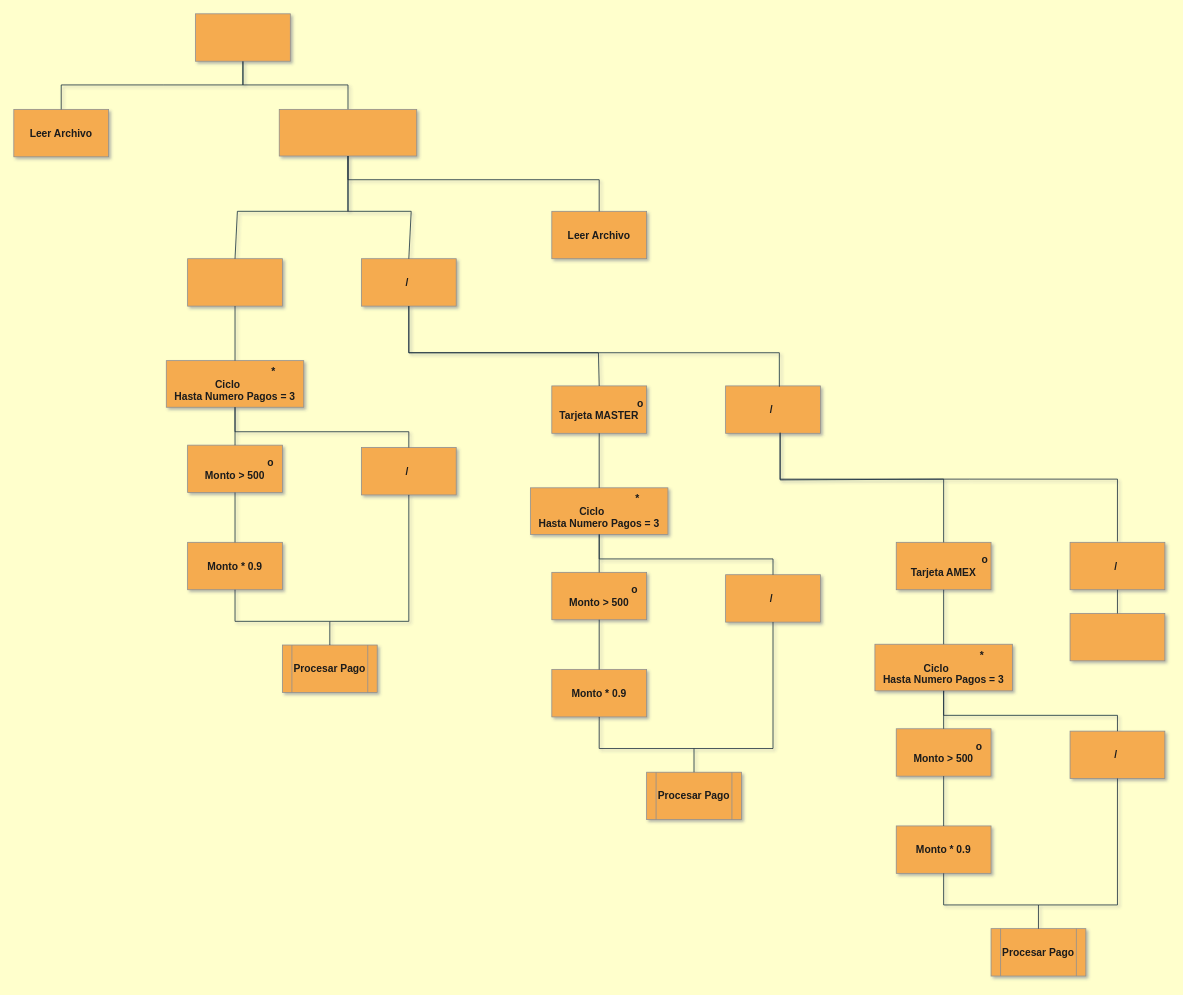
Image size: 1183x995. Some labels were removed from this diagram. Each missing label, with the centre of its shape:
"* Ciclo Hasta FinArchivo = TRUE" goes at [347,132].
"Mensaje Tarjeta NO valida" goes at [1117,637].
"o Tarjeta VISA" goes at [234,282].
"Procedimiento Pagar Tarjetas" goes at [242,37].
